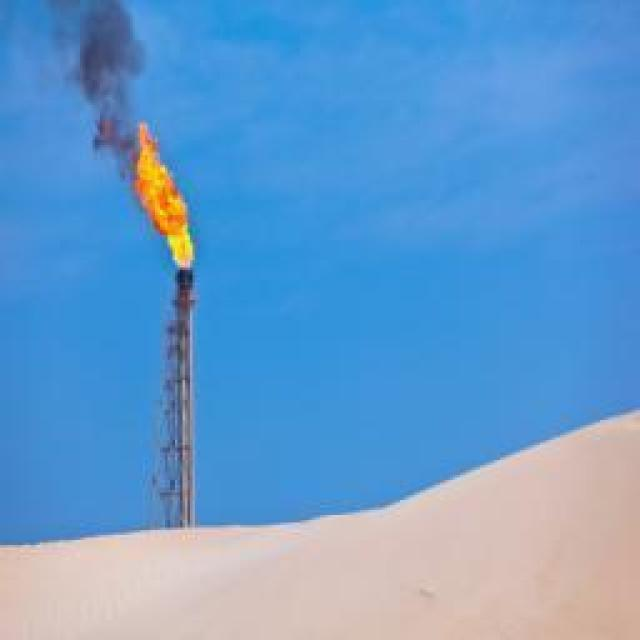fire: (132, 123, 193, 269)
smoke: (45, 0, 148, 192)
